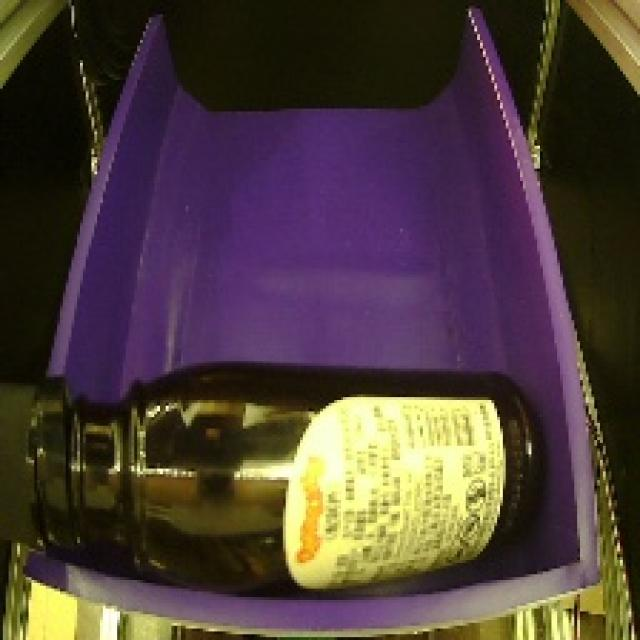plastic: (0, 334, 560, 613)
